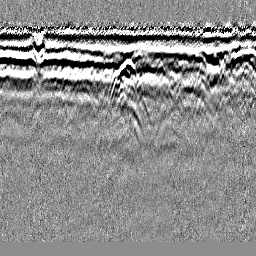cavity: (109, 57, 144, 96)
